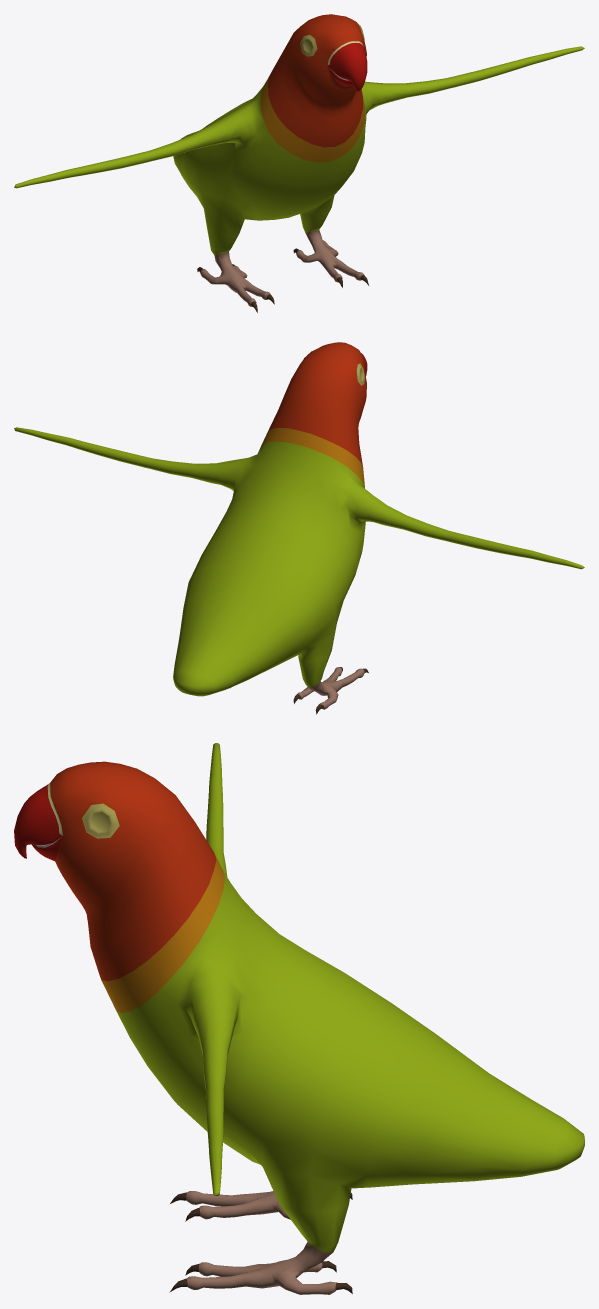
The model's file is lovebird_lovebird.obj.
The picture shows the model from 3 angles, top to bottom: view 1: azimuth 30°, elevation 25°; view 2: azimuth 150°, elevation 25°; view 3: azimuth 270°, elevation 25°; orthographic projection. The views are drawn at different scales.
Parts seen in each view (by area): view 1: lovebird; view 2: lovebird; view 3: lovebird.
Part boxes in pixels (x1,y1,x2,y2): lovebird: (14,14,584,312); lovebird: (14,342,584,714); lovebird: (14,743,584,1294).
Bounding box in the file's own units: 0.2021 × 0.1003 × 0.1079.
